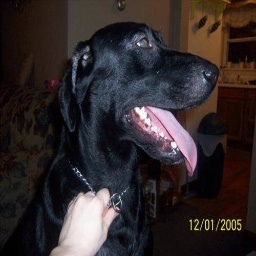dog: (19, 17, 219, 256)
